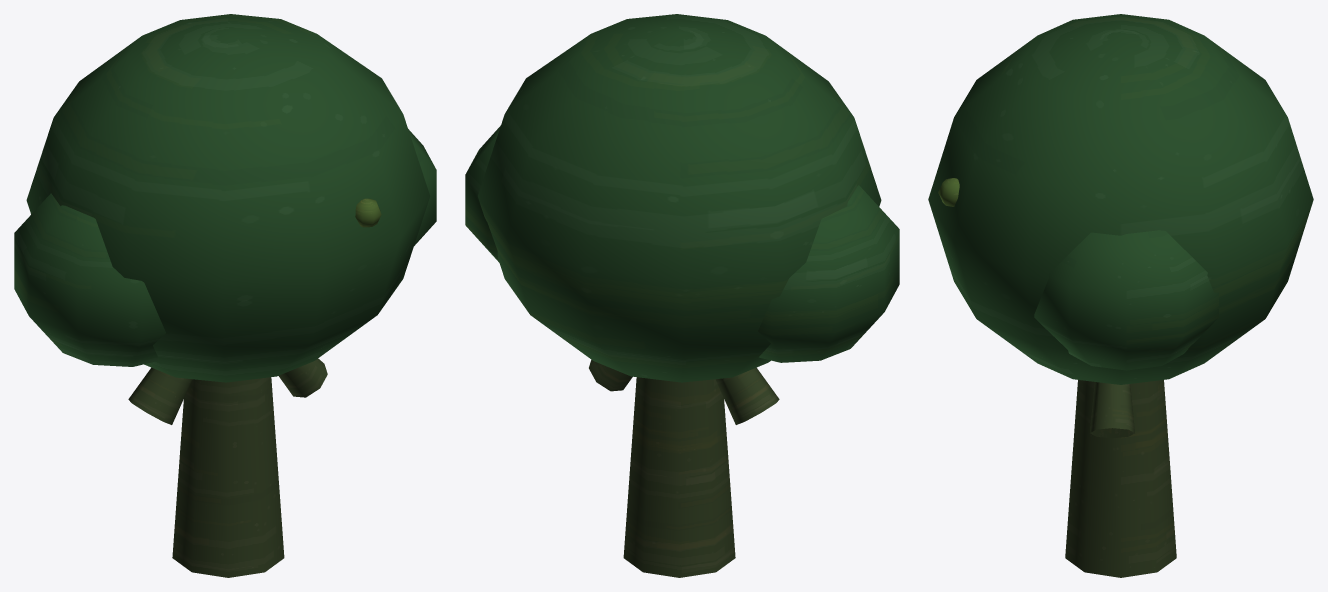
The model's file is arbre-rond.glb.
The picture shows the model from 3 angles, left to right: view 1: azimuth 30°, elevation 25°; view 2: azimuth 150°, elevation 25°; view 3: azimuth 270°, elevation 25°; orthographic projection.
Visible parts, largest first — view 1: Feuillage, Tronc, TouffeG, BrancheG, BrancheD, TouffeD, PommeOr; view 2: Feuillage, Tronc, TouffeG, BrancheG, TouffeD, BrancheD; view 3: Feuillage, TouffeD, Tronc, BrancheD.
Part boxes in pixels (x1,y1,x2,y2): Feuillage: (26, 14, 430, 382); Tronc: (172, 377, 284, 577); TouffeG: (14, 193, 165, 366); BrancheG: (128, 367, 192, 424); BrancheD: (278, 358, 327, 397); TouffeD: (408, 129, 436, 245); PommeOr: (355, 198, 381, 227); Feuillage: (477, 14, 881, 382); Tronc: (623, 377, 735, 577); TouffeG: (758, 185, 899, 362); BrancheG: (715, 367, 779, 424); TouffeD: (465, 125, 500, 262); BrancheD: (589, 360, 632, 391); Feuillage: (928, 14, 1313, 384); TouffeD: (1034, 230, 1218, 370); Tronc: (1065, 380, 1176, 577); BrancheD: (1090, 382, 1134, 438).
Bounding box in the file's own units: 1.62 × 2.02 × 1.36.
Materials: 3 (3 with a texture image).
